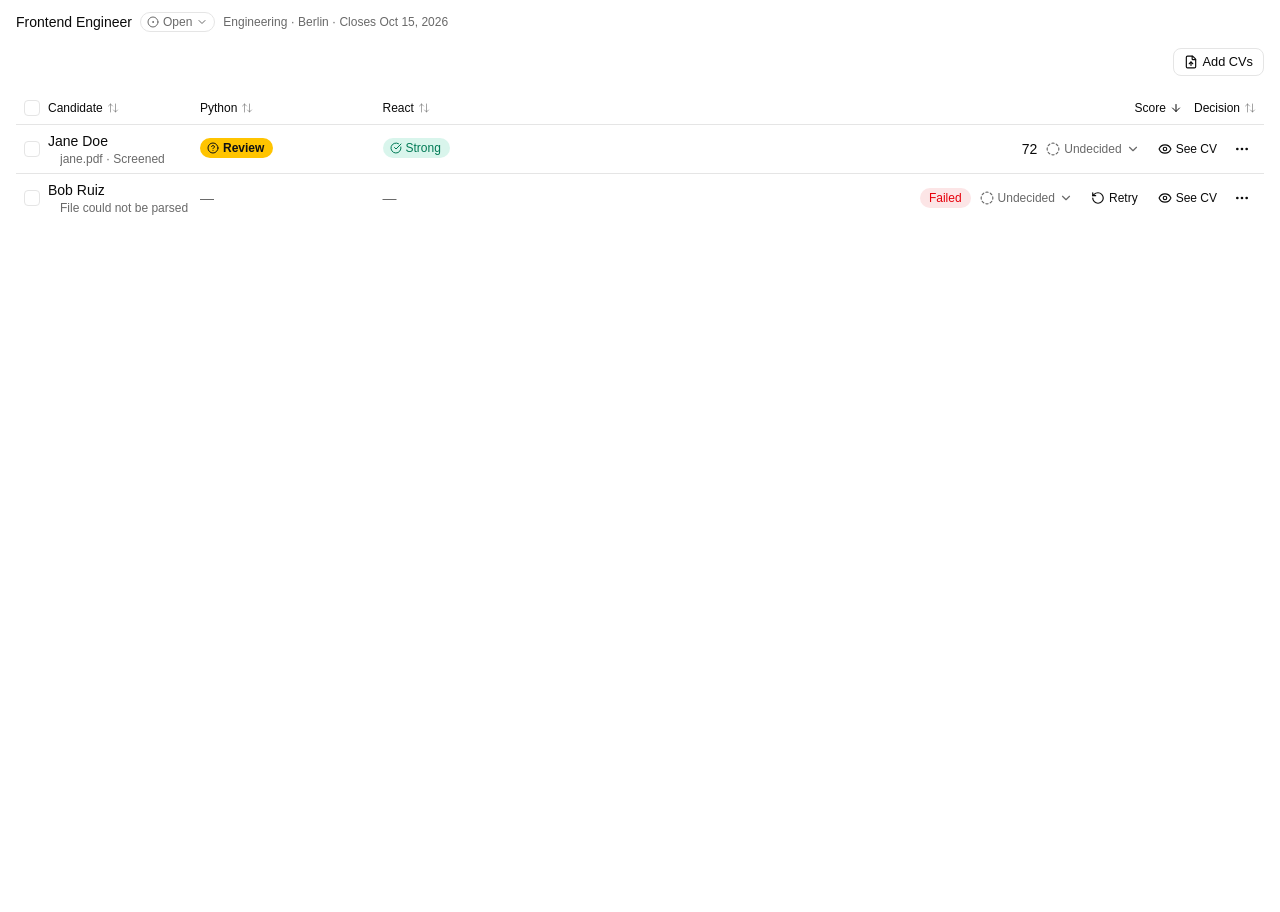
Scenario: OpeningDetailPage › selects all, then bulk-shortlists via the floating bar
Click the checkbox named "Select all candidates". click: {"x": 32, "y": 108}
box: [24,100,40,116]
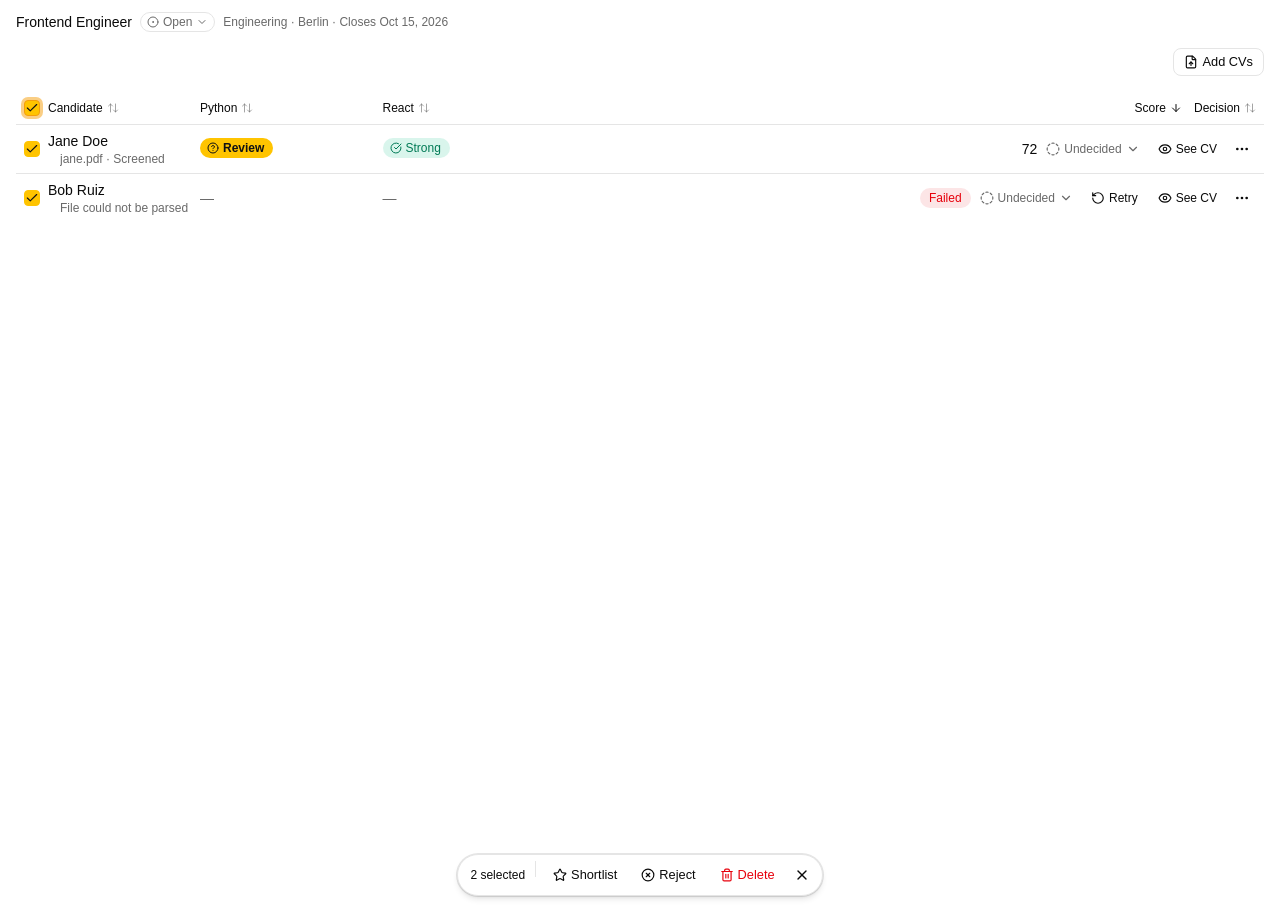
Expected: the text "2 selected" is shown, [470,867,529,883]
Click the button "Shortlist". click: {"x": 585, "y": 875}
box: [542,861,628,889]
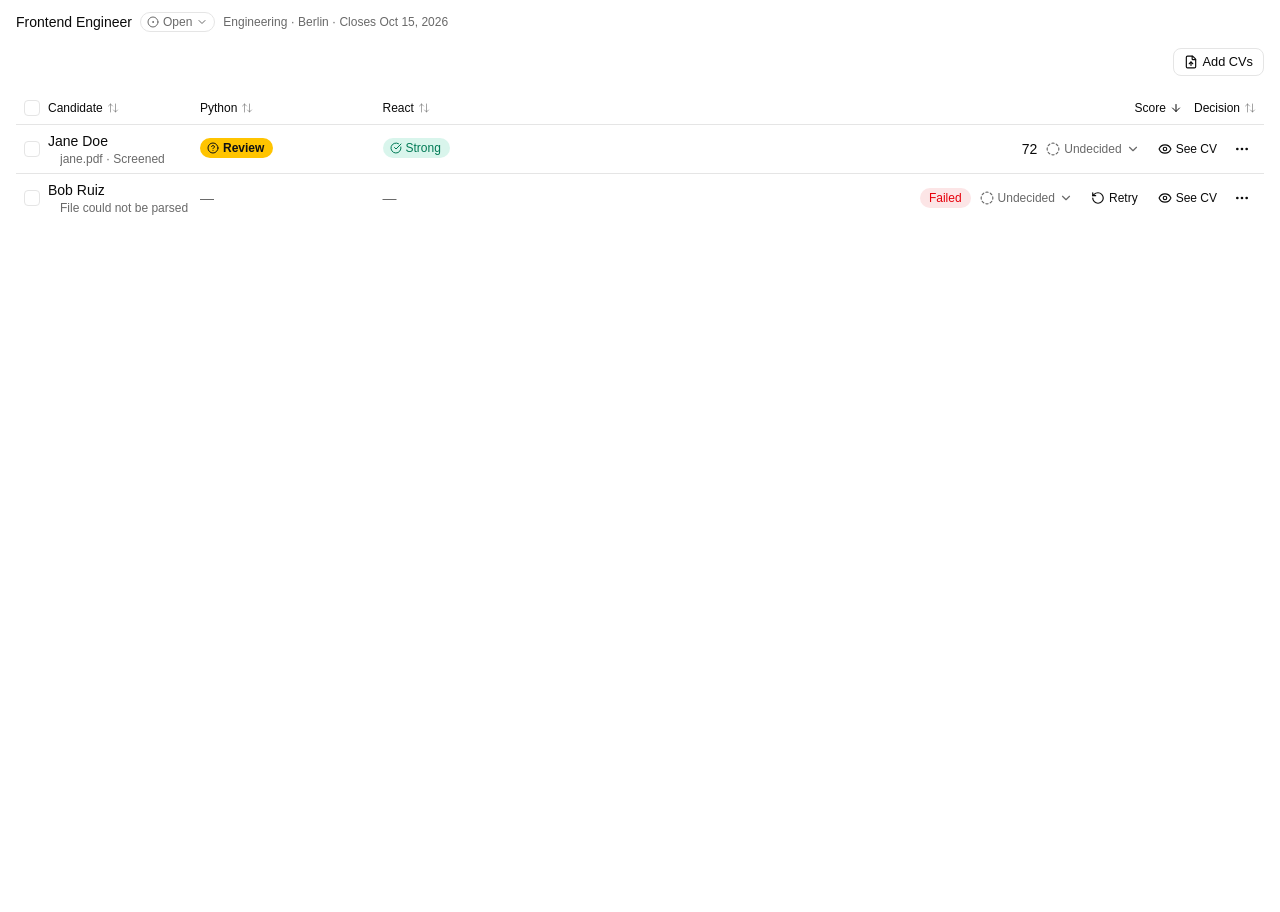
Expected: the text "selected" is gone
